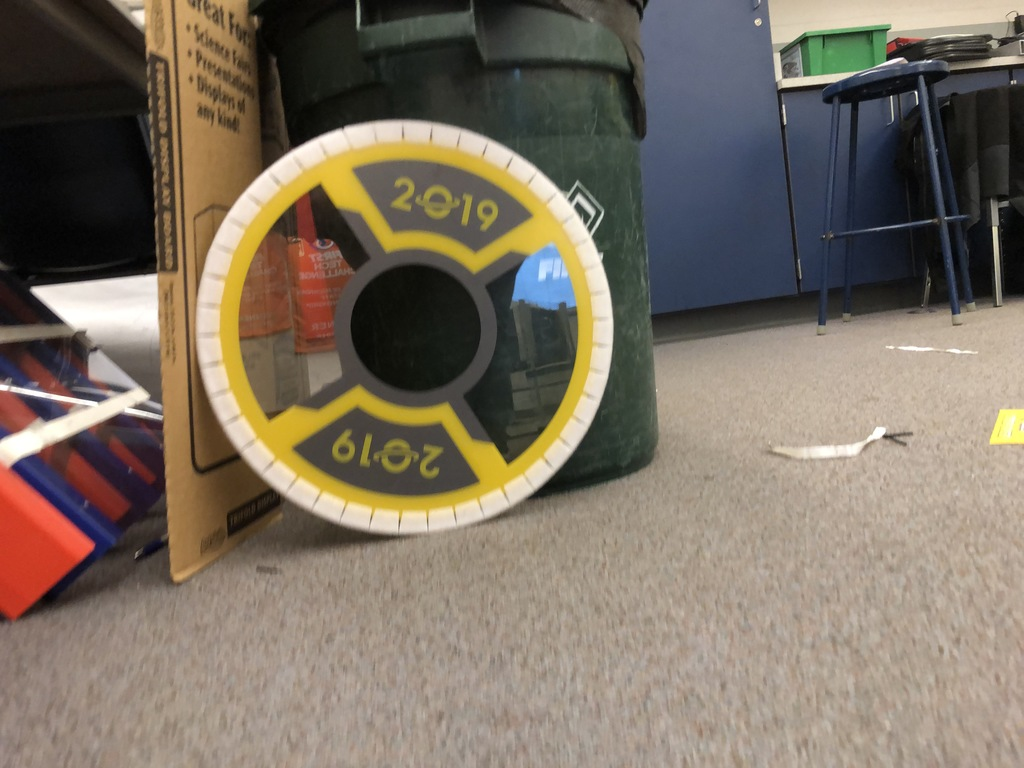hatch_panel: (179, 111, 624, 542)
